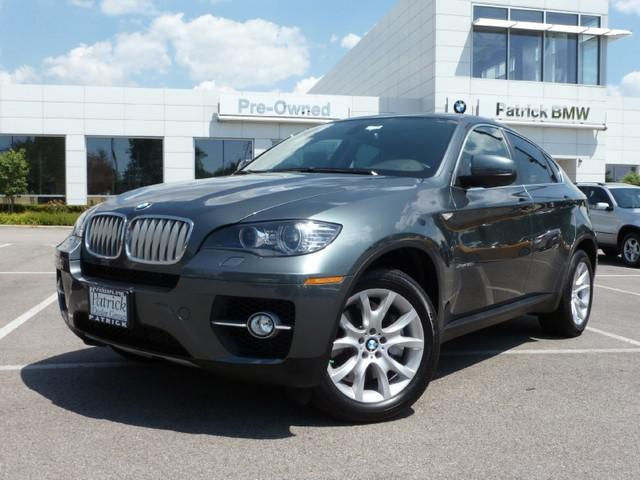Car: (35, 104, 615, 441)
